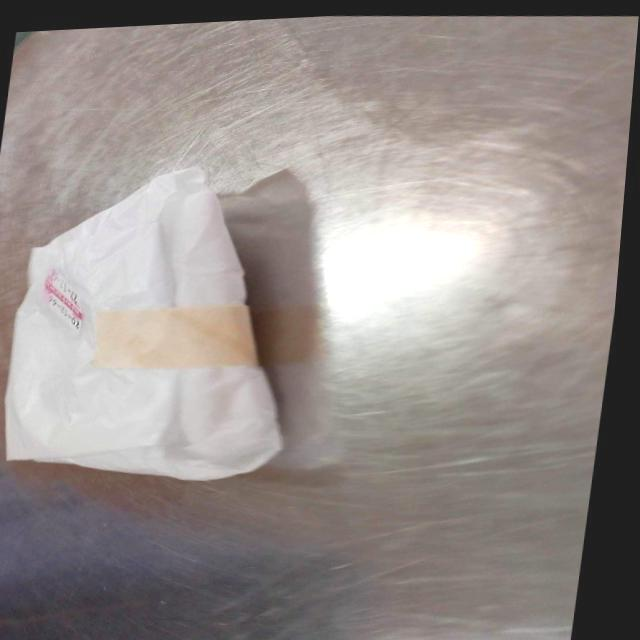Infectious: (5, 164, 287, 481)
Sharps: (216, 166, 345, 470)
